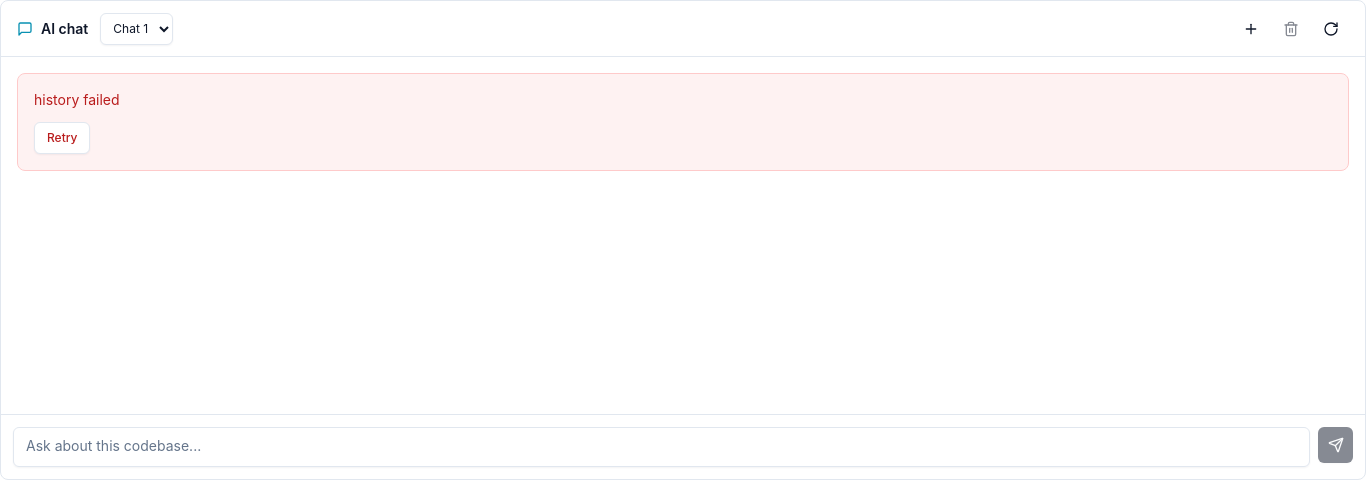
Test: ChatPanel › shows load errors and retries
Check: the text "history failed" is shown, box [34, 91, 120, 108]
What coordinates should you click on to do the following:
click the button "Retry"
I would click on:
 (62, 138)
Its box is [34, 122, 90, 154].
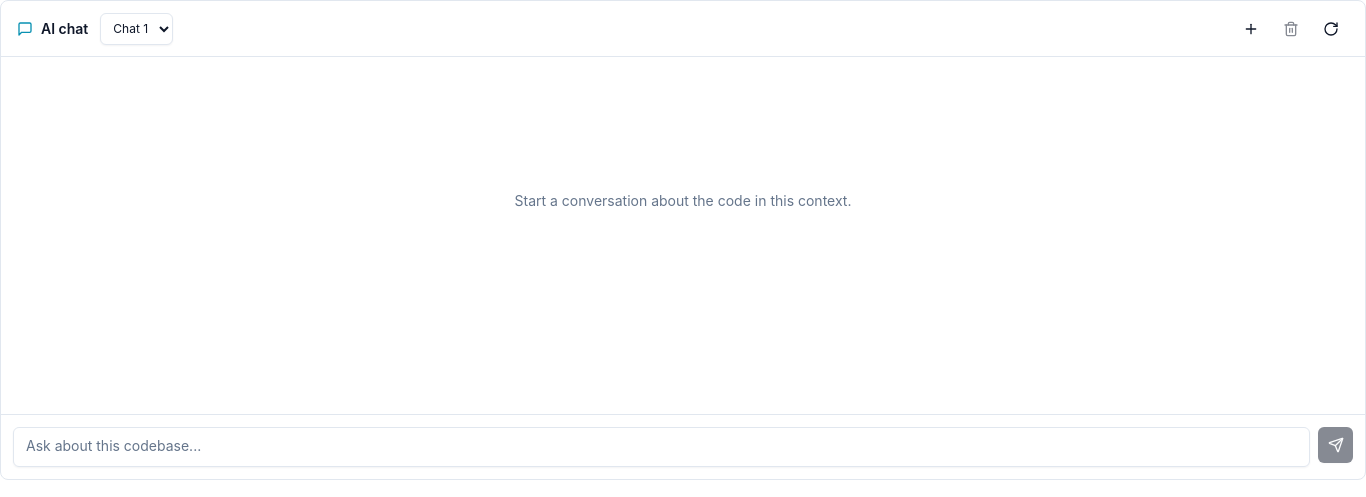
Check: the text "Start a conversation about the code in this context." is shown, box [514, 192, 851, 209]
